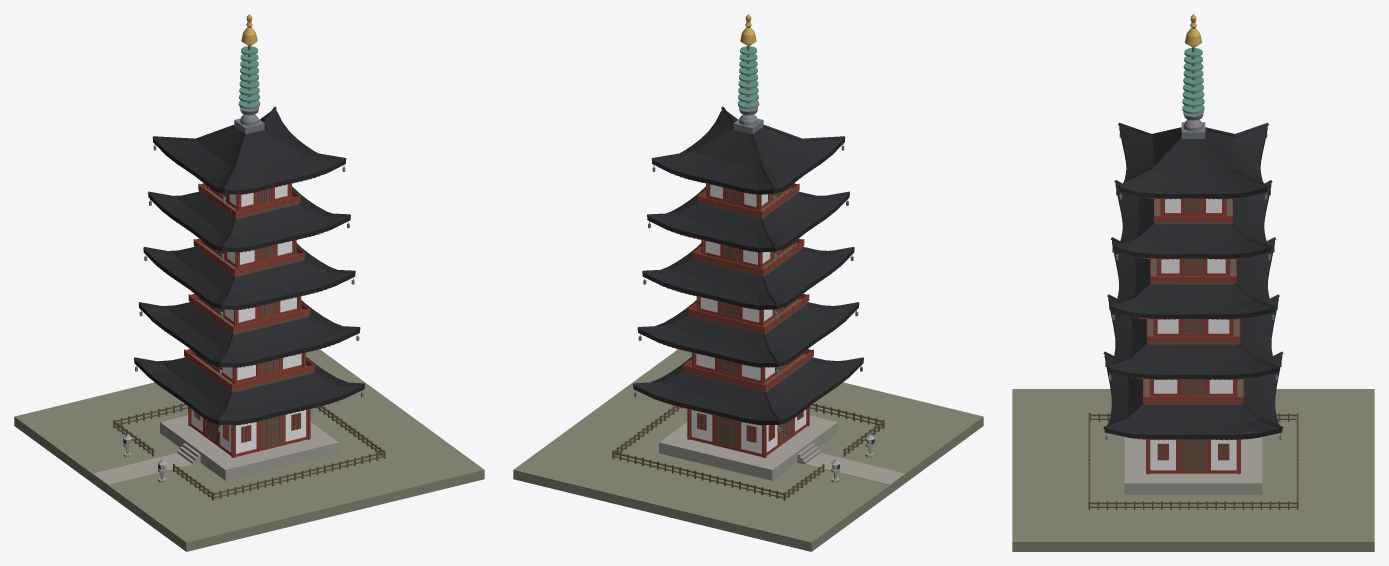
File: top-prebuilt_close.fbx
3 renders of one model, left to right at view 1: azimuth 30°, elevation 25°; view 2: azimuth 150°, elevation 25°; view 3: azimuth 270°, elevation 25°, orthographic. The views are drawn at different scales.
Visible parts, largest first — view 1: landmark-five_story_pagoda/0/top-prebuilt_close; view 2: landmark-five_story_pagoda/0/top-prebuilt_close; view 3: landmark-five_story_pagoda/0/top-prebuilt_close.
Boxes of the visible parts, bbox=[...] form: landmark-five_story_pagoda/0/top-prebuilt_close: bbox=[14, 14, 484, 551]; landmark-five_story_pagoda/0/top-prebuilt_close: bbox=[513, 14, 983, 551]; landmark-five_story_pagoda/0/top-prebuilt_close: bbox=[1012, 14, 1374, 551].
Bounding box in the file's own units: 40 × 56.2 × 40.
